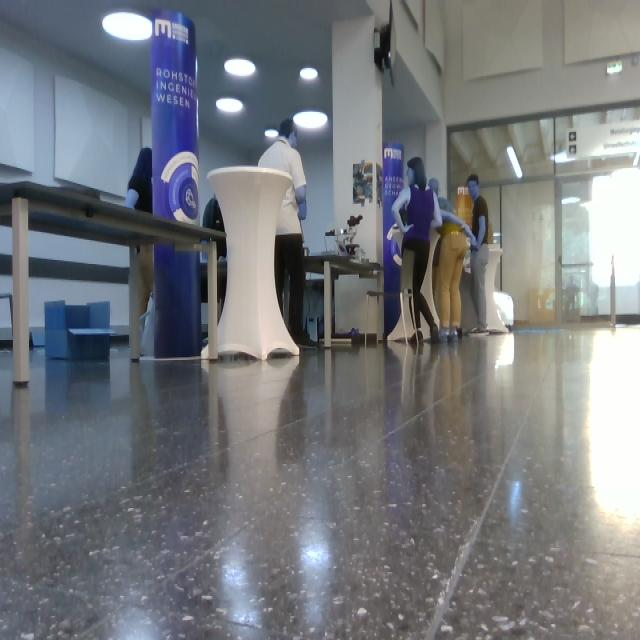carton: (46, 302, 114, 358)
door: (556, 172, 640, 320)
light bulb: (103, 13, 152, 40), (294, 112, 328, 130), (225, 58, 256, 77), (508, 146, 523, 180), (607, 61, 623, 74), (265, 129, 279, 137)
person: (259, 120, 309, 345), (392, 158, 442, 344), (430, 180, 473, 341), (468, 176, 489, 333), (126, 148, 152, 213), (138, 246, 153, 316)
pillar: (333, 17, 383, 264), (152, 12, 199, 224), (155, 245, 200, 358), (335, 276, 383, 340)
table: (1, 184, 225, 384), (209, 168, 299, 360), (130, 260, 140, 361)
tiled floor: (1, 329, 640, 640)
